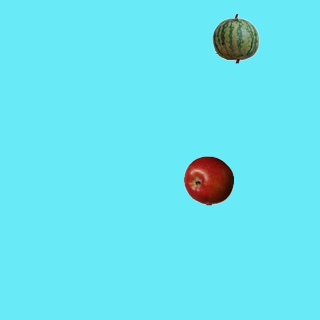Apple Braeburn: (183, 155, 233, 205)
Watermelon: (210, 13, 260, 63)
